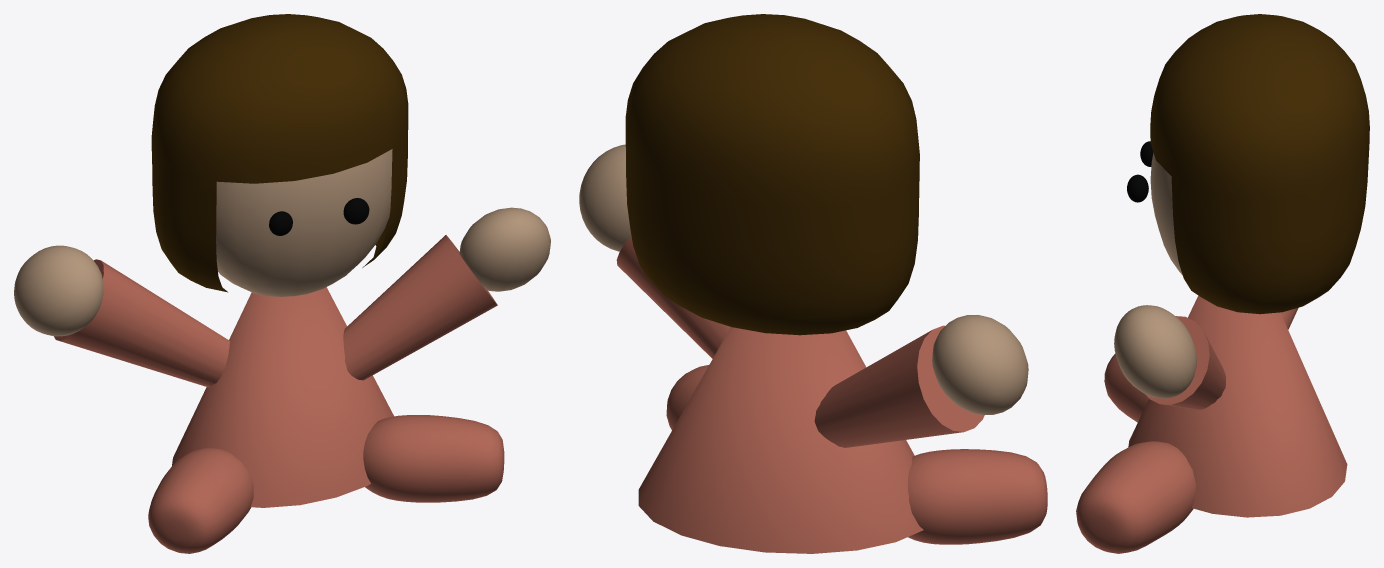
The model's file is dolly.fbx.
3 renders of one model, left to right at view 1: azimuth 30°, elevation 25°; view 2: azimuth 150°, elevation 25°; view 3: azimuth 270°, elevation 25°, orthographic. The views are drawn at different scales.
Parts seen in each view (by area): view 1: pSphere5; view 2: pSphere5; view 3: pSphere5.
Part boxes in pixels (left/top/right/bottom): pSphere5: left=14, top=14, right=550, bottom=553; pSphere5: left=579, top=14, right=1047, bottom=553; pSphere5: left=1076, top=14, right=1369, bottom=553.
Size of the model in its own units: 0.8625 by 0.8171 by 0.4737.
